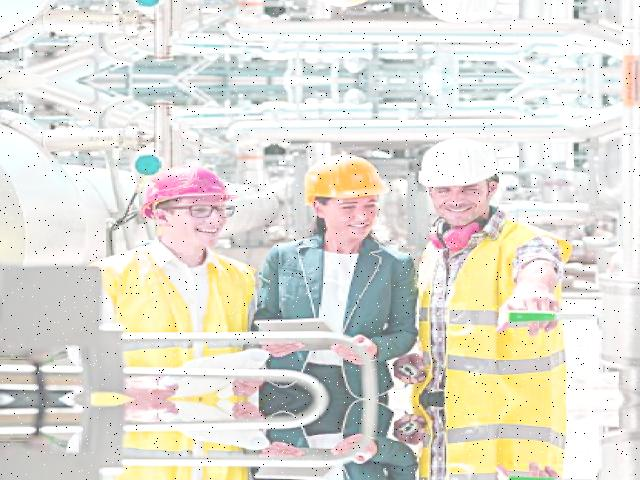Helmet: (139, 161, 246, 224), (293, 150, 399, 208), (416, 134, 504, 195)
